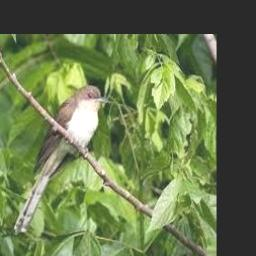Cuckoo: (12, 85, 109, 233)
